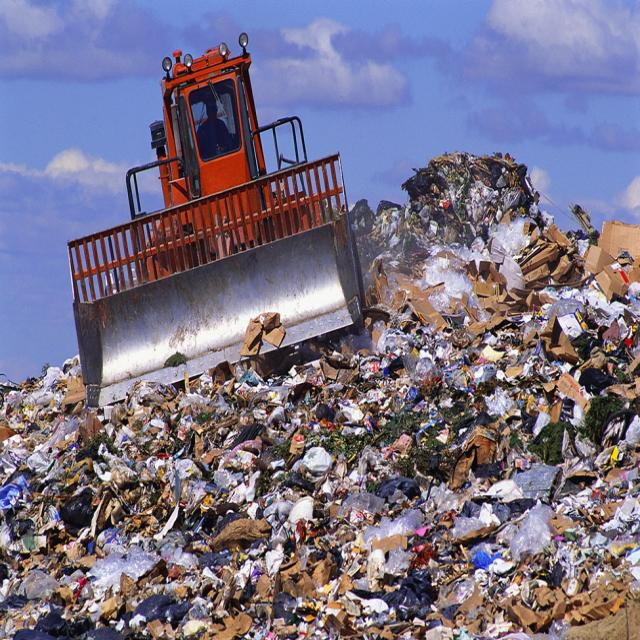garbage: (7, 355, 640, 640), (366, 146, 637, 640)
